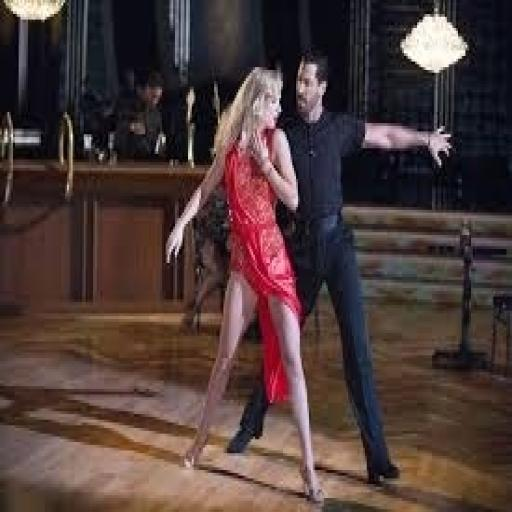dancing: (139, 31, 512, 512)
